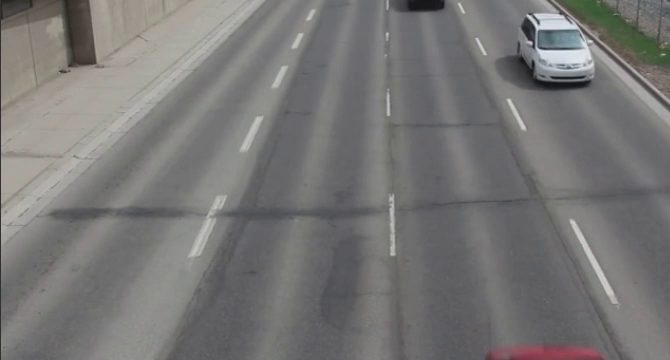car: (511, 11, 606, 86)
